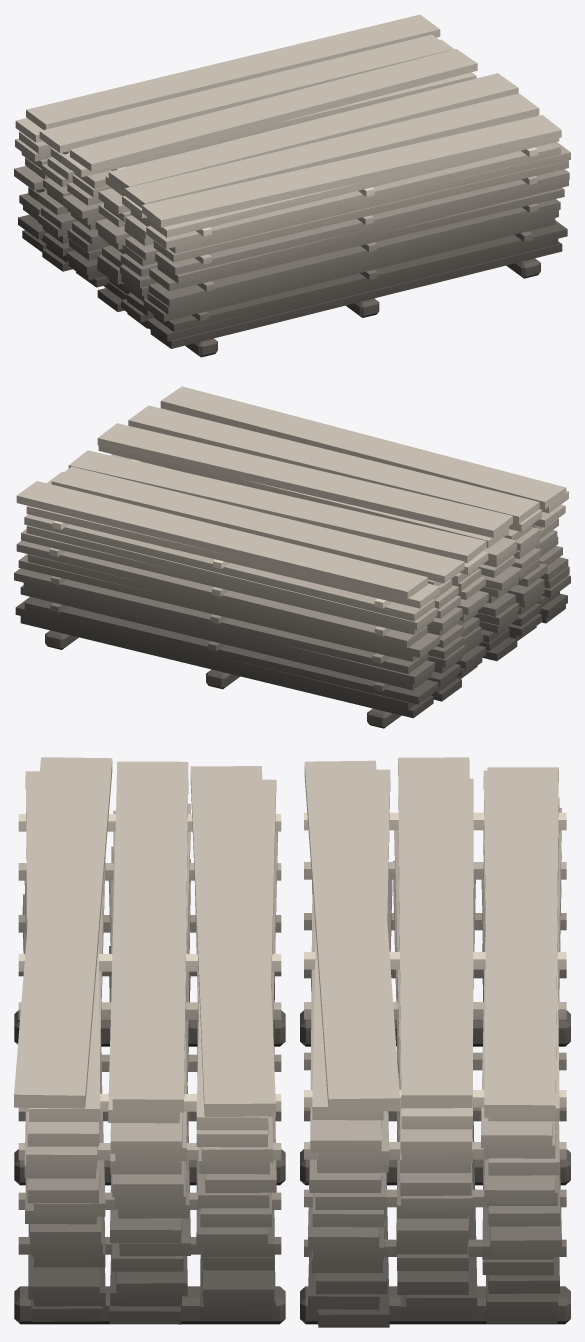
The model's file is SM_VK_Pile_Planks_3.fbx.
3 views of the same model, one above another, from view 1: azimuth 30°, elevation 25°; view 2: azimuth 150°, elevation 25°; view 3: azimuth 270°, elevation 25° (orthographic). The views are drawn at different scales.
Visible parts, largest first — view 1: SM_VK_Pile_Planks_3.001; view 2: SM_VK_Pile_Planks_3.001; view 3: SM_VK_Pile_Planks_3.001.
Boxes of the visible parts, <box> form: SM_VK_Pile_Planks_3.001: <box>14,14,570,357</box>; SM_VK_Pile_Planks_3.001: <box>14,386,570,728</box>; SM_VK_Pile_Planks_3.001: <box>14,757,570,1327</box>.
Size of the model in its own units: 2.9 by 0.96 by 1.95.
